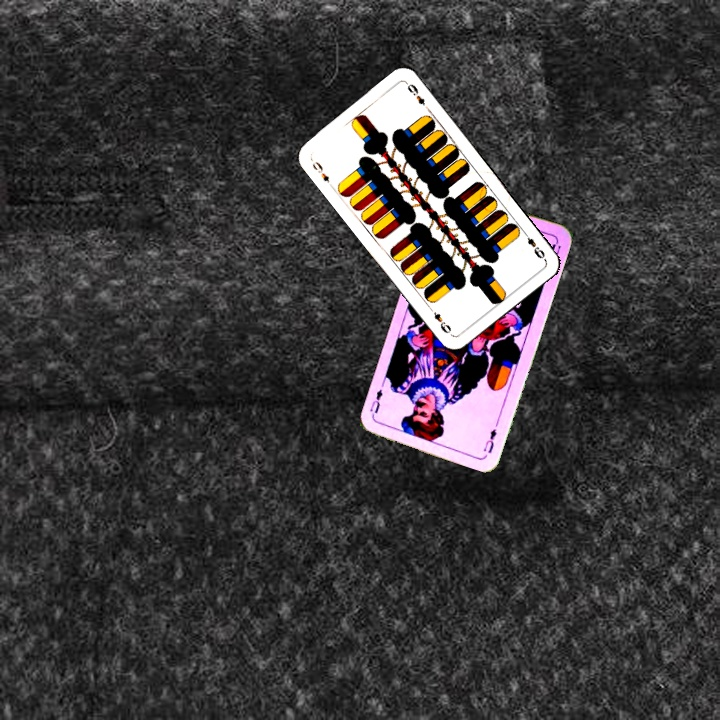E9: (307, 155, 336, 190), (519, 227, 547, 261)
EU: (479, 424, 499, 456)
